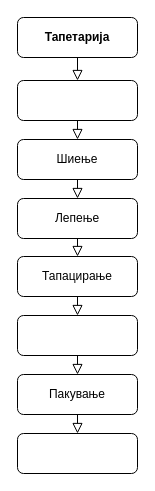
This 155x491 diagram has some shape labels left out. The shapes that lost their labels are listed below. From the top down, each one's box as (x1, y1, x2, y2) in pixels, then its label:
(16, 80, 138, 120): Кроење
(16, 314, 138, 356): Склопување
(16, 432, 138, 474): Транспорт
